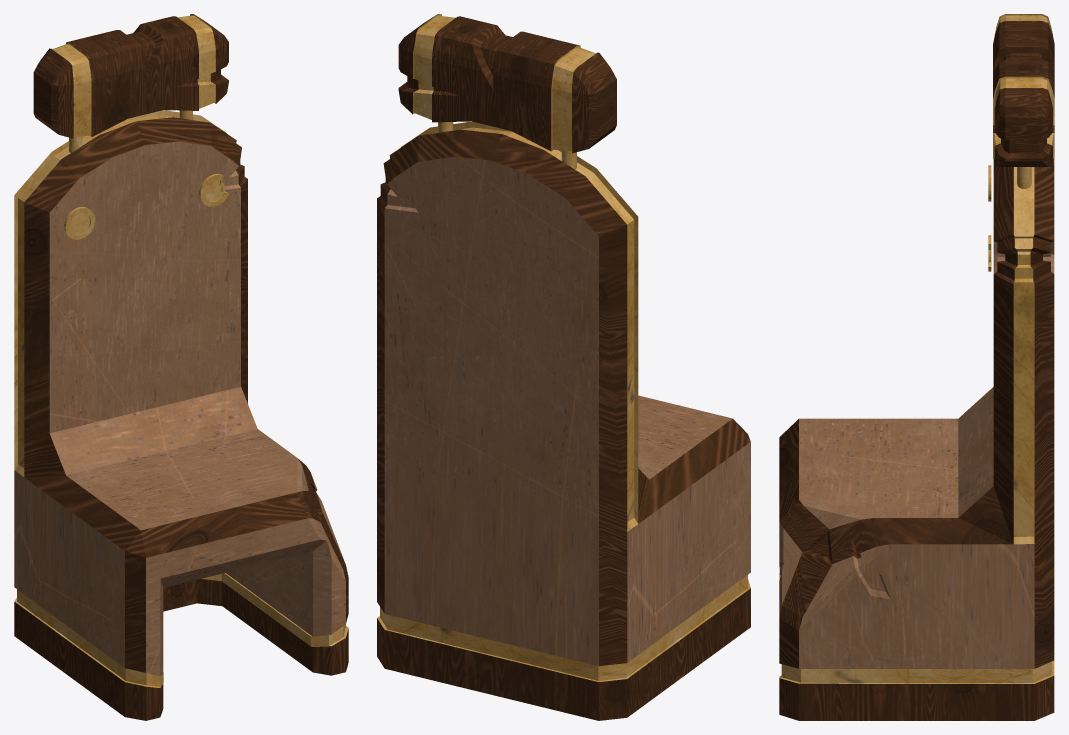
Rendered from destroyed_chair_2 (1).fbx.
The picture shows the model from 3 angles, left to right: view 1: azimuth 30°, elevation 25°; view 2: azimuth 150°, elevation 25°; view 3: azimuth 270°, elevation 25°; orthographic projection. The views are drawn at different scales.
Parts seen in each view (by area): view 1: Cube.011; view 2: Cube.011; view 3: Cube.011.
Boxes of the visible parts, x1,y1,x2,y2 form: Cube.011: [14, 14, 348, 720]; Cube.011: [377, 14, 750, 720]; Cube.011: [779, 14, 1054, 720].
Size of the model in its own units: 46.12 by 114 by 46.14.
Materials: 3 (3 with a texture image).
